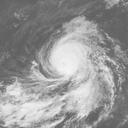cyclone: (31, 15, 114, 92)
